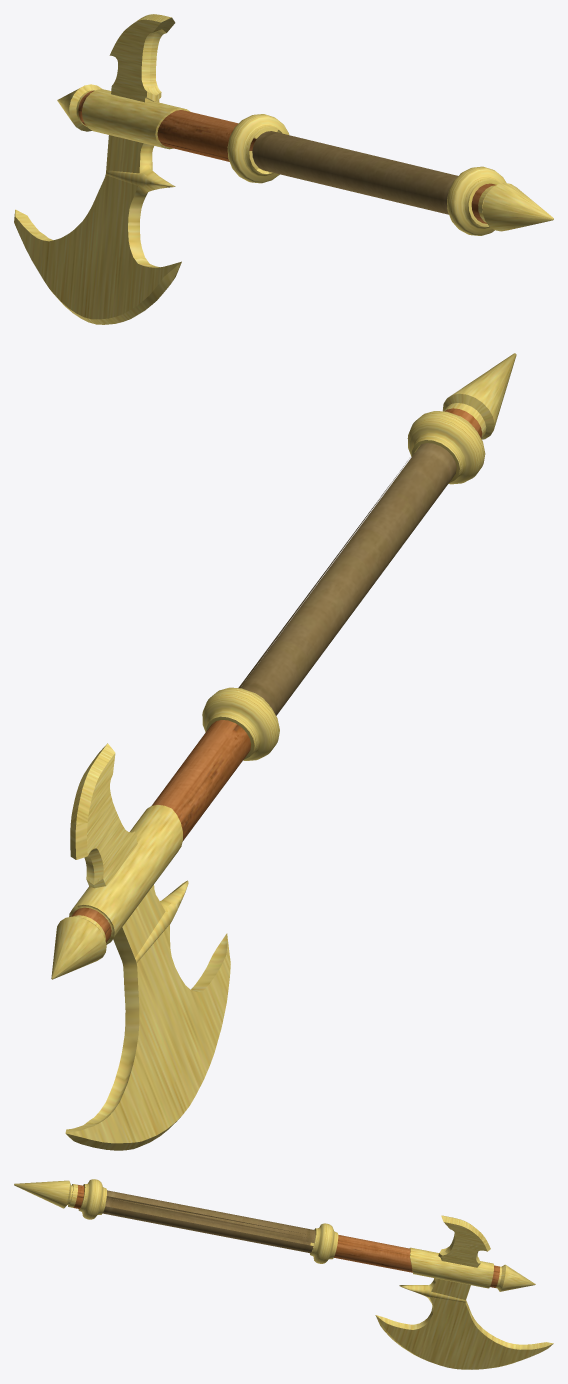
The model's file is FreeAXE.fbx.
3 renders of one model, top to bottom at view 1: azimuth 30°, elevation 25°; view 2: azimuth 150°, elevation 25°; view 3: azimuth 270°, elevation 25°, orthographic. The views are drawn at different scales.
Visible parts, largest first — view 1: RoyalAXE; view 2: RoyalAXE; view 3: RoyalAXE.
Boxes of the visible parts, x1,y1,x2,y2 form: RoyalAXE: (14, 14, 553, 324); RoyalAXE: (51, 353, 516, 1150); RoyalAXE: (14, 1179, 553, 1369).
Size of the model in its own units: 0.0234 by 0.0699 by 0.1615.
1 material, 1 textured.
